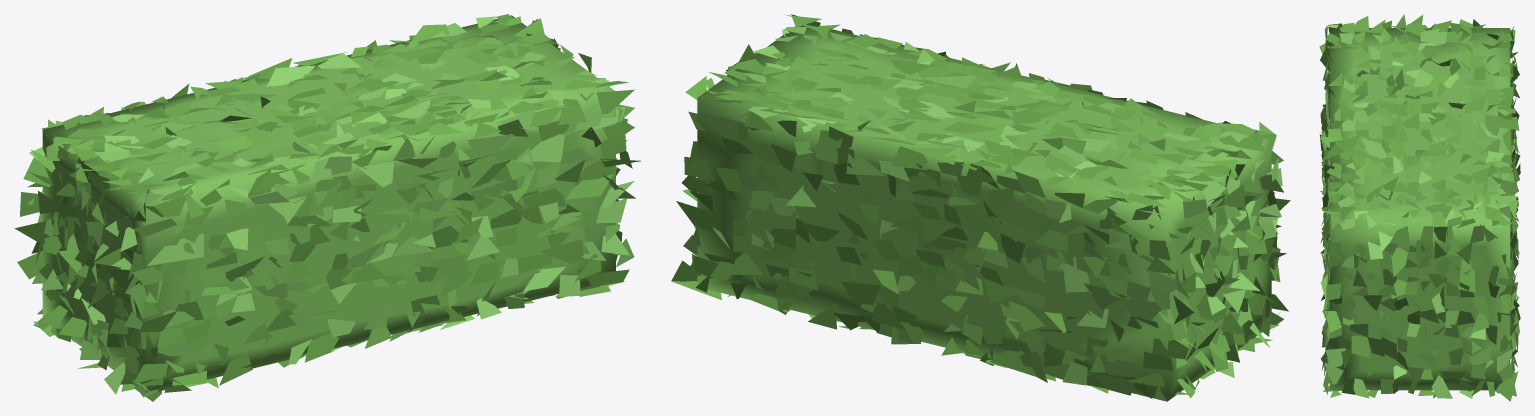
Rendered from BUSH18.fbx.
The picture shows the model from 3 angles, left to right: view 1: azimuth 30°, elevation 25°; view 2: azimuth 150°, elevation 25°; view 3: azimuth 270°, elevation 25°; orthographic projection. The views are drawn at different scales.
Parts seen in each view (by area): view 1: Cube.112; view 2: Cube.112; view 3: Cube.112.
Boxes of the visible parts, left/top/right/bottom form: Cube.112: left=14, top=14, right=640, bottom=401; Cube.112: left=671, top=14, right=1290, bottom=401; Cube.112: left=1319, top=14, right=1520, bottom=401.
Bounding box in the file's own units: 3384 × 1295 × 1300.
